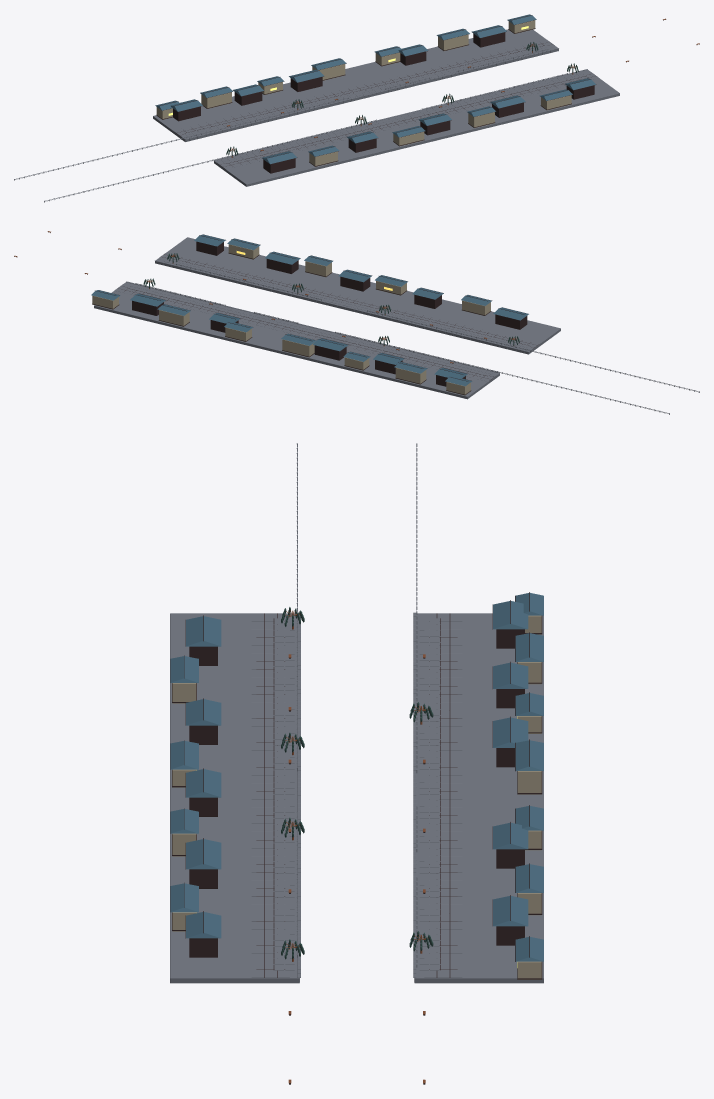
Rendered from model-riverbanks.glb.
3 renders of one model, top to bottom at view 1: azimuth 30°, elevation 25°; view 2: azimuth 150°, elevation 25°; view 3: azimuth 270°, elevation 25°, orthographic. The views are drawn at different scales.
Parts seen in each view (by area): view 1: model-riverbanks; view 2: model-riverbanks; view 3: model-riverbanks.
Boxes of the visible parts, x1,y1,x2,y2 form: model-riverbanks: [14, 14, 699, 202]; model-riverbanks: [14, 231, 699, 414]; model-riverbanks: [170, 443, 543, 1084].
Size of the model in its own units: 315 by 7.82 by 78.05.
